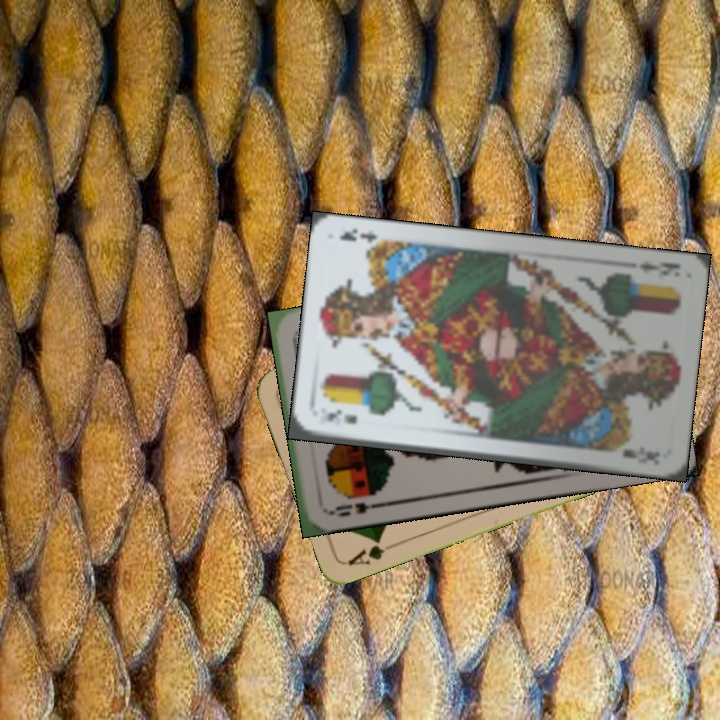EK: (635, 256, 683, 281), (322, 407, 360, 429)
GA: (344, 533, 401, 569)
SO: (324, 498, 383, 520)
